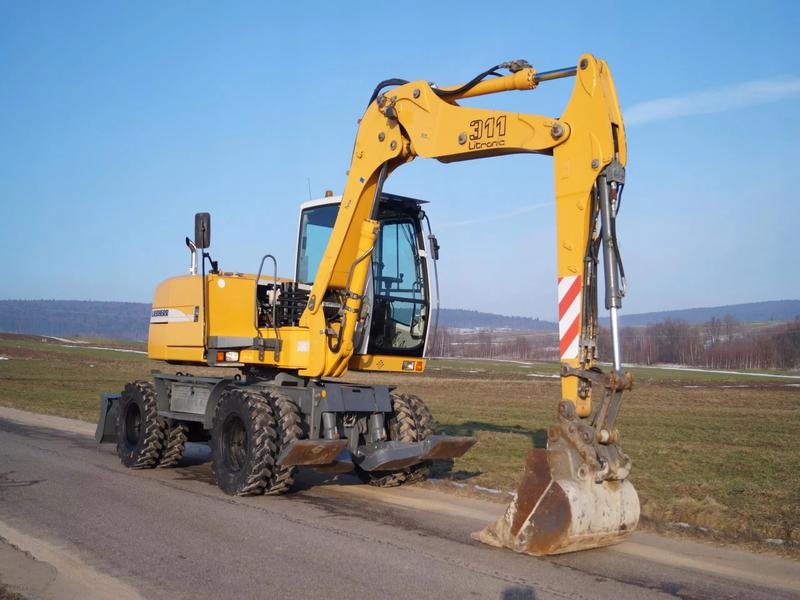shovel: (100, 51, 655, 562)
